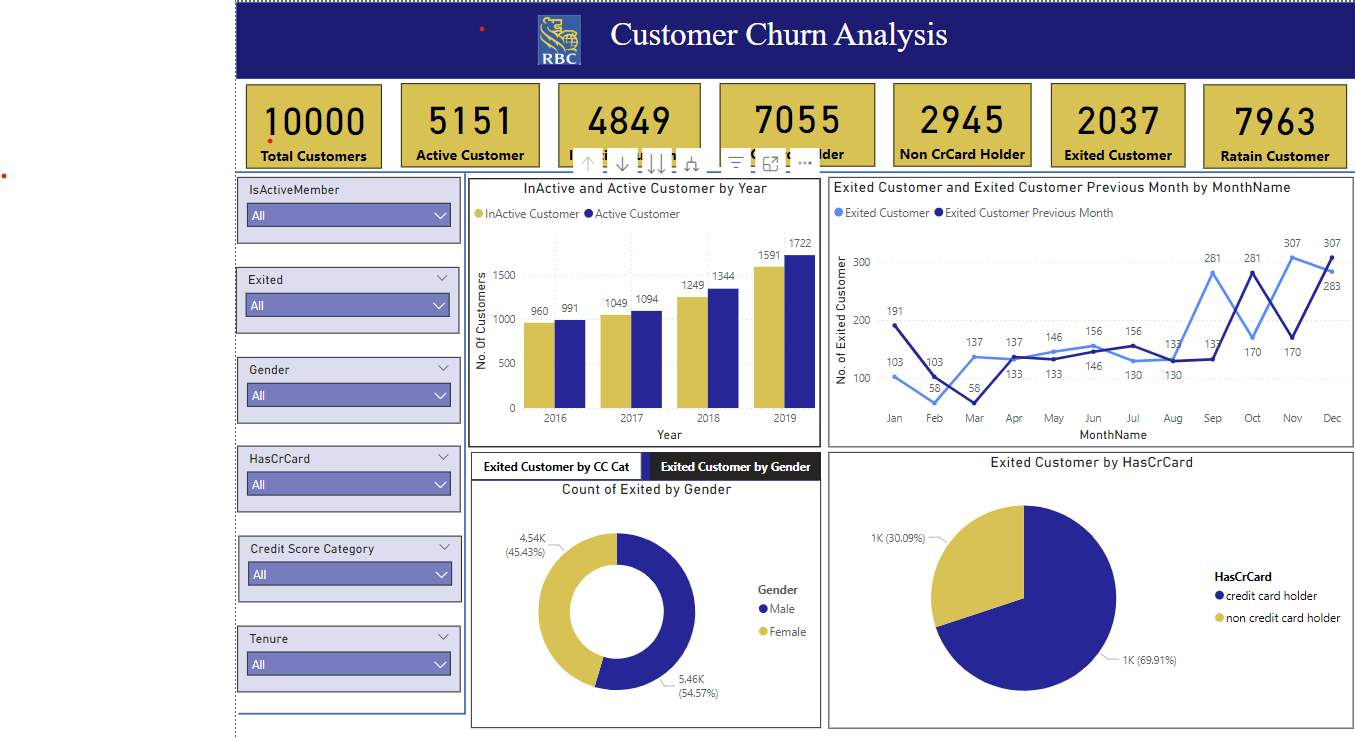

Layout of this report page (visuals, bound fields, positions):
{"tool":"powerbi","page":{"name":"Churn Analysis","canvas":[1280,850],"ordinal":0},"visuals":[{"type":"card","fields":{"Values":["Count(Bank_Churn.CustomerId)"]},"box":[11.2,93.8,155,96.2],"z":0},{"type":"card","fields":{"Values":["Table.Active Customer"]},"box":[187.9,92.7,158.8,96.2],"z":1000},{"type":"card","fields":{"Values":["Table.InActive Customer"]},"box":[368.3,92.7,162.5,96.2],"z":2000},{"type":"card","fields":{"Values":["Table.CrCard Holder"]},"box":[552.5,92.5,177.5,95],"z":3000},{"type":"card","fields":{"Values":["Table.Non CrCard Holder"]},"box":[751.7,92.7,157.5,95],"z":4000},{"type":"card","fields":{"Values":["Table.Exited Customer"]},"box":[930.8,92.7,153.8,96.2],"z":5000},{"type":"card","fields":{"Values":["Table.Ratain Customer"]},"box":[1106.2,93.8,163.8,96.2],"z":6000},{"type":"shape","box":[0,0,1280,88.3],"z":7000},{"type":"image","box":[318.3,10,101.7,66.7],"z":8000},{"type":"textbox","box":[416.7,10,406.7,53.3],"z":9000},{"type":"shape","box":[0,186.2,1280,17.5],"z":10000},{"type":"shape","box":[256,196,12,618],"z":11000},{"type":"slicer","fields":{"Values":["Bank_Churn.IsActiveMember"]},"box":[1.2,200,255,76.2],"z":12000},{"type":"slicer","fields":{"Values":["Bank_Churn.Exited"]},"box":[0,302.5,255,76.2],"z":13000},{"type":"slicer","fields":{"Values":["Bank_Churn.Gender"]},"box":[1.2,405,255,76.2],"z":14000},{"type":"slicer","fields":{"Values":["Bank_Churn.HasCrCard"]},"box":[1.2,507.5,255,76.2],"z":15000},{"type":"slicer","fields":{"Values":["Bank_Churn.Credit Score Category"]},"box":[2.5,610,255,76.2],"z":16000},{"type":"slicer","fields":{"Values":["Bank_Churn.Tenure"]},"box":[1.2,712.5,255,76.2],"z":17000},{"type":"shape","box":[2.5,807.5,260,12.5],"z":18000},{"type":"clusteredColumnChart","title":"InActive and Active Customer by Year","fields":{"Y":["Table.InActive Customer","Table.Active Customer"],"Category":["DateTable.Date.Variation.Date Hierarchy.Year","DateTable.MonthName"]},"box":[266.2,201.2,402.5,307.5],"z":19000},{"type":"lineChart","fields":{"Y":["Table.Exited Customer","Table.Exited Customer Previous Month"],"Category":["DateTable.Date.Variation.Date Hierarchy.Year","DateTable.MonthName"]},"box":[677.5,200,600,308.8],"z":20000},{"type":"donutChart","fields":{"Category":["Bank_Churn.Gender"],"Y":["CountNonNull(Bank_Churn.Exited)"]},"box":[268.8,546.2,400,283.8],"z":21000},{"type":"pieChart","fields":{"Category":["Bank_Churn.HasCrCard"],"Y":["Table.Exited Customer"]},"box":[677.1,514.3,600,315.7],"z":23000},{"type":"bookmarkNavigator","box":[268.8,513.8,400,32.5],"z":24000}]}

Visuals, with their boxes in screenshot pixels (x1, y1, x2, y2):
card - Count(Bank_Churn.CustomerId): crop(236, 76, 373, 161)
card - Table.Active Customer: crop(393, 75, 533, 161)
card - Table.InActive Customer: crop(553, 75, 697, 161)
card - Table.CrCard Holder: crop(716, 75, 873, 159)
card - Table.Non CrCard Holder: crop(893, 75, 1032, 159)
card - Table.Exited Customer: crop(1052, 75, 1188, 161)
card - Table.Ratain Customer: crop(1207, 76, 1352, 161)
shape: crop(226, 0, 1354, 71)
image: crop(508, 2, 598, 61)
textbox: crop(595, 2, 956, 49)
shape: crop(226, 158, 1354, 174)
shape: crop(453, 167, 464, 715)
slicer - Bank_Churn.IsActiveMember: crop(227, 170, 453, 238)
slicer - Bank_Churn.Exited: crop(226, 261, 452, 329)
slicer - Bank_Churn.Gender: crop(227, 352, 453, 420)
slicer - Bank_Churn.HasCrCard: crop(227, 443, 453, 511)
slicer - Bank_Churn.Credit Score Category: crop(228, 534, 454, 602)
slicer - Bank_Churn.Tenure: crop(227, 625, 453, 693)
shape: crop(228, 709, 459, 720)
"InActive and Active Customer by Year" clusteredColumnChart: crop(462, 171, 819, 444)
lineChart - Table.Exited Customer x Table.Exited Customer Previous Month: crop(827, 170, 1354, 444)
donutChart - Bank_Churn.Gender x CountNonNull(Bank_Churn.Exited): crop(464, 477, 819, 729)
pieChart - Bank_Churn.HasCrCard x Table.Exited Customer: crop(826, 449, 1354, 729)
bookmarkNavigator: crop(464, 449, 819, 478)
